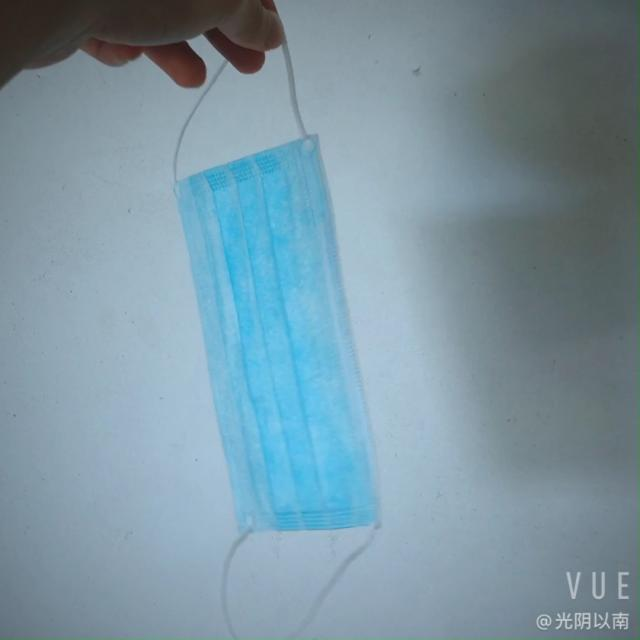non-organic waste: (151, 118, 361, 520)
